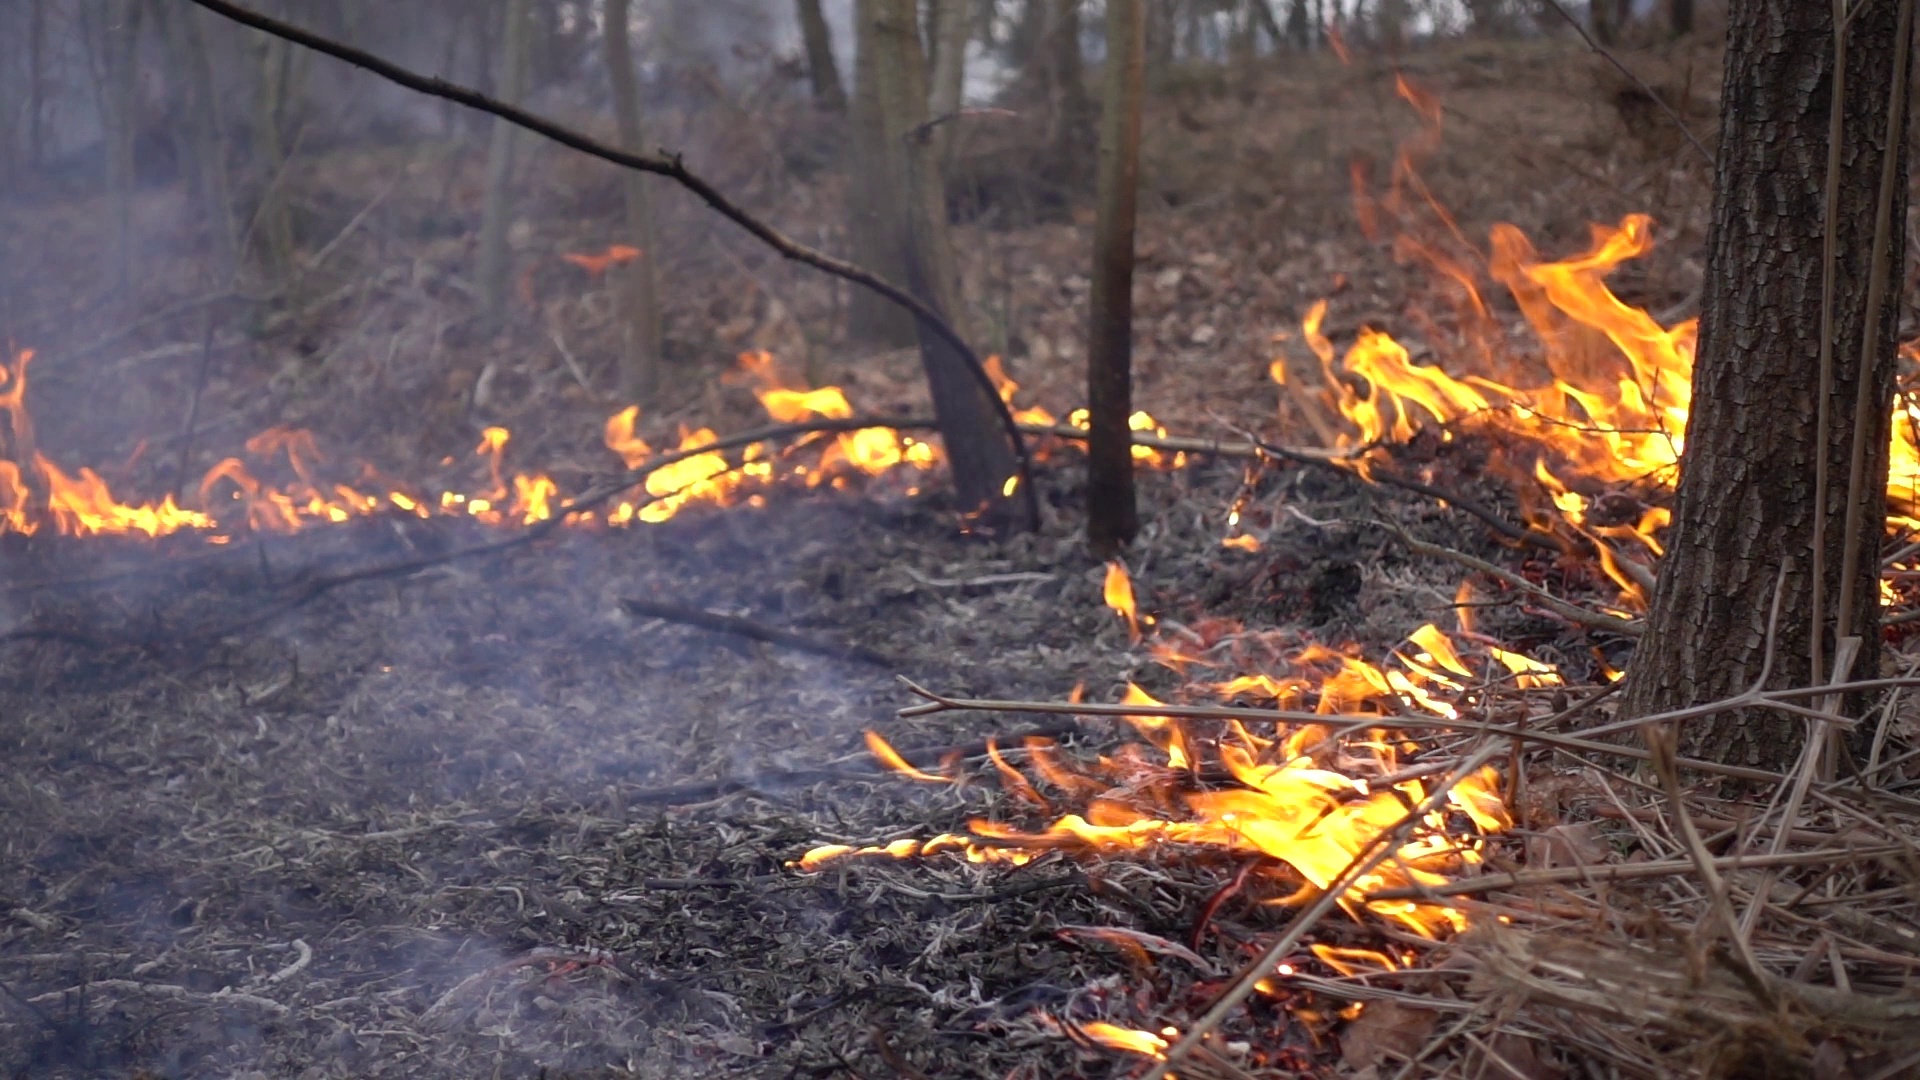fire: (1000, 609, 1549, 1009), (1259, 216, 1698, 597), (596, 386, 934, 521), (1, 436, 385, 539), (431, 419, 556, 527), (1886, 400, 1916, 502)
